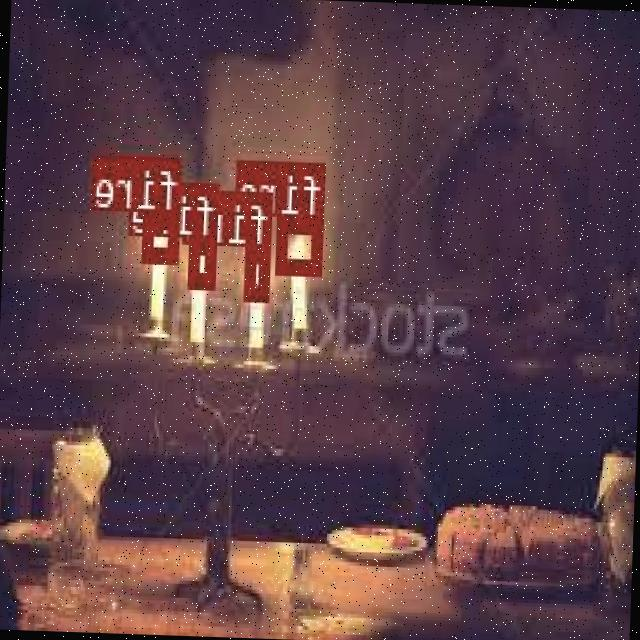fire: (278, 216, 325, 274), (145, 210, 181, 258), (246, 244, 271, 300), (190, 236, 218, 286)
